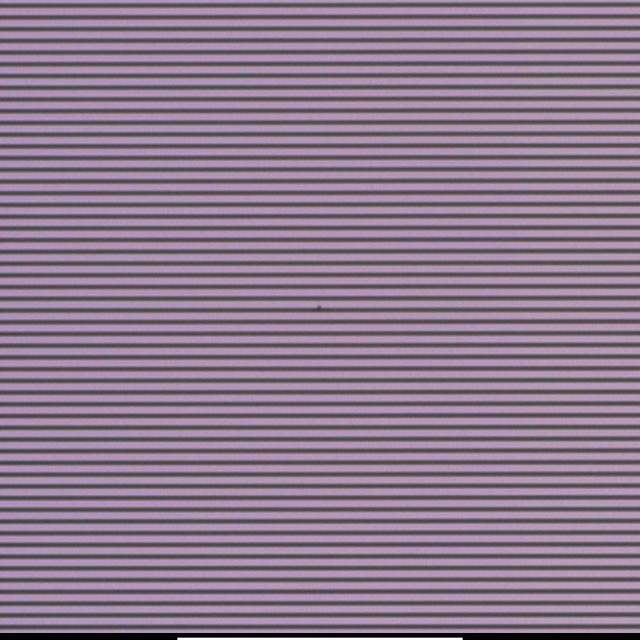03_intrusion: (310, 298, 330, 318)
